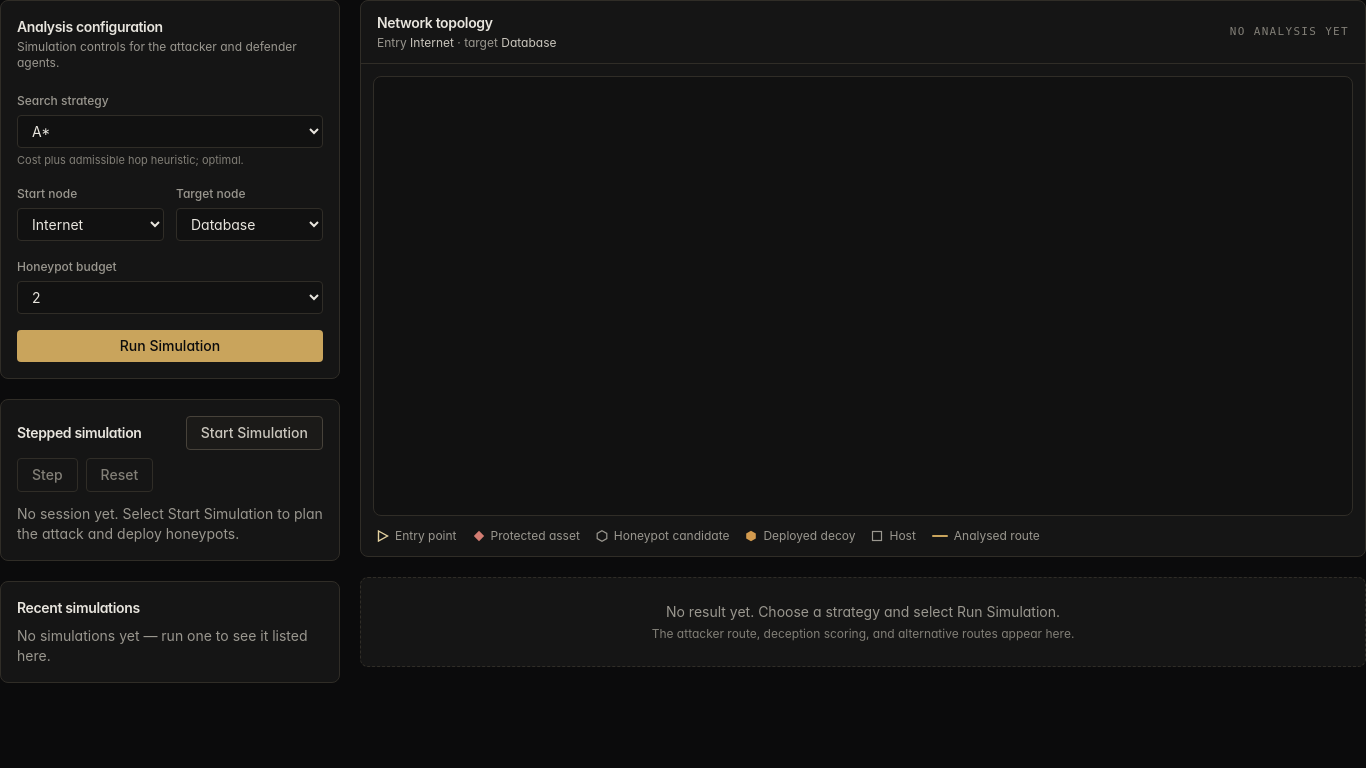
SimulationPanel › starts a stepped session and enables Step and Reset
Check: the text "No session yet" is shown, box left=17, top=505, right=323, bottom=542
Check: the button "Step" is disabled, box left=17, top=458, right=78, bottom=492
Click the button "Start Simulation" at (254, 433), box left=186, top=416, right=323, bottom=450
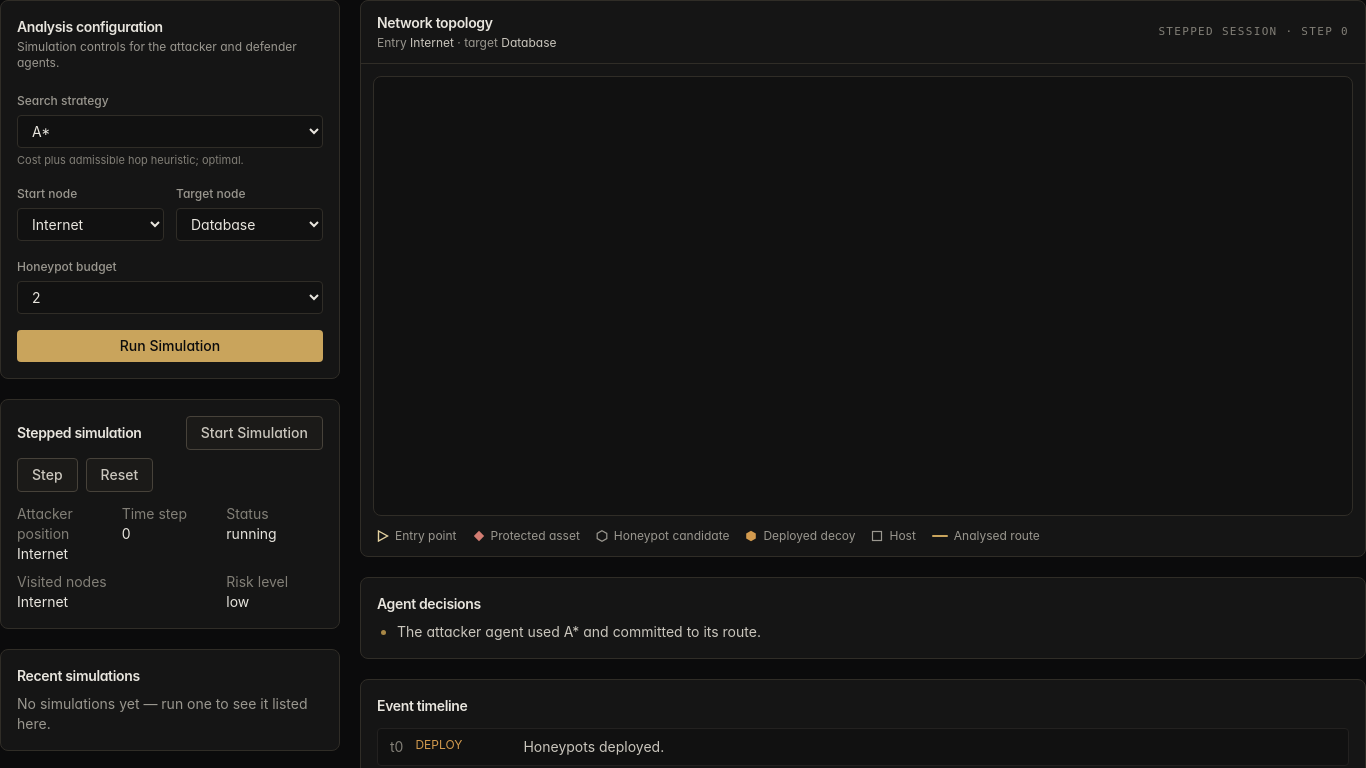
Check: the text "Honeypots deployed." is shown, box left=523, top=737, right=664, bottom=757
Check: the button "Step" is enabled, box left=17, top=458, right=78, bottom=492
Check: the button "Reset" is enabled, box left=86, top=458, right=153, bottom=492
